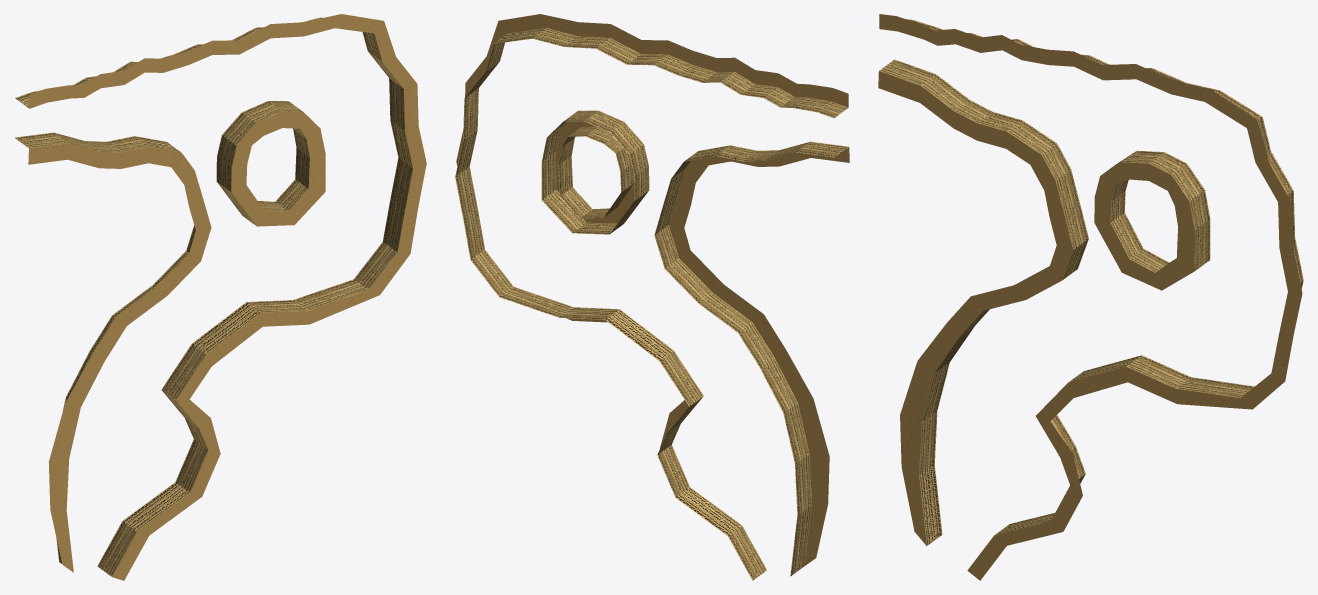
File: Level_01.FBX
3 views of the same model, side by side, from view 1: azimuth 30°, elevation 25°; view 2: azimuth 150°, elevation 25°; view 3: azimuth 330°, elevation 25° (orthographic). The views are drawn at different scales.
Parts seen in each view (by area): view 1: Level_02; view 2: Level_02; view 3: Level_02.
Boxes of the visible parts, <box> form: Level_02: <box>14,14,426,580</box>; Level_02: <box>455,14,849,580</box>; Level_02: <box>878,14,1303,580</box>.
Bounding box in the file's own units: 7726 × 9659 × 496.
Materials: 2 (2 with a texture image).
